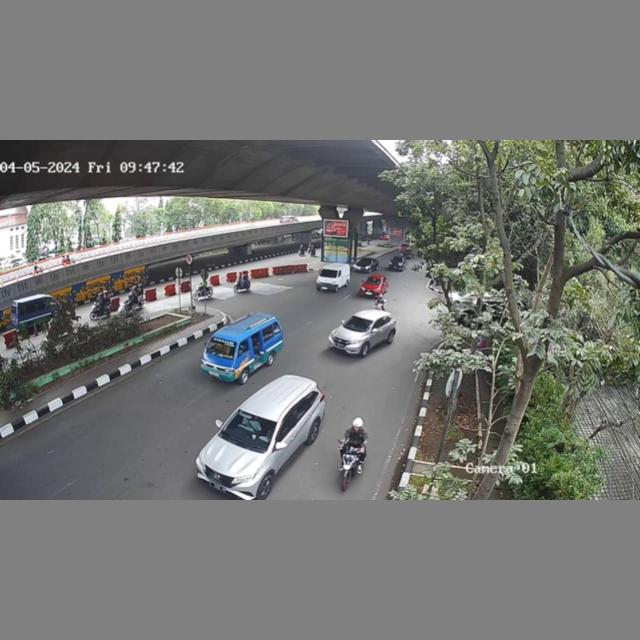windshield: (221, 411, 277, 449), (204, 335, 240, 360), (344, 313, 375, 335)
